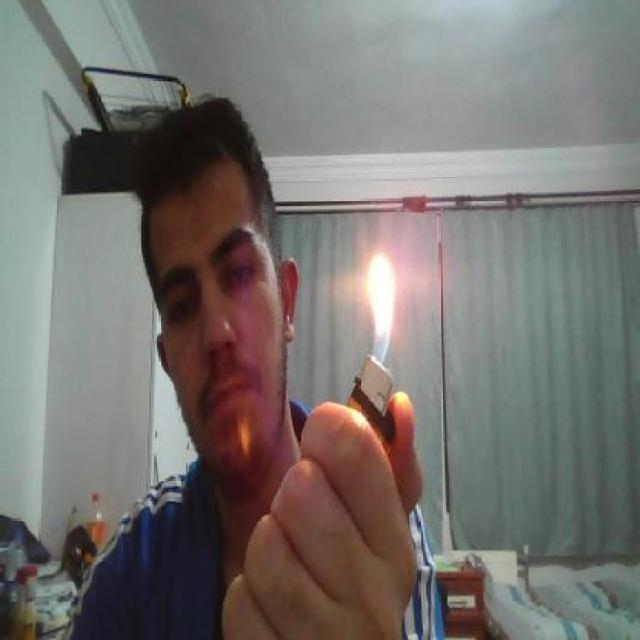Fire: (369, 238, 408, 357)
